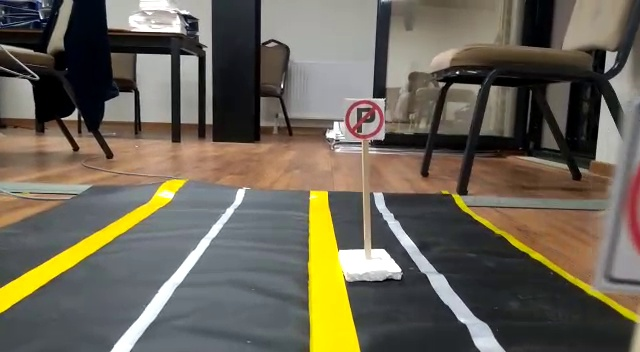park_yapilmaz: (342, 95, 386, 142)
